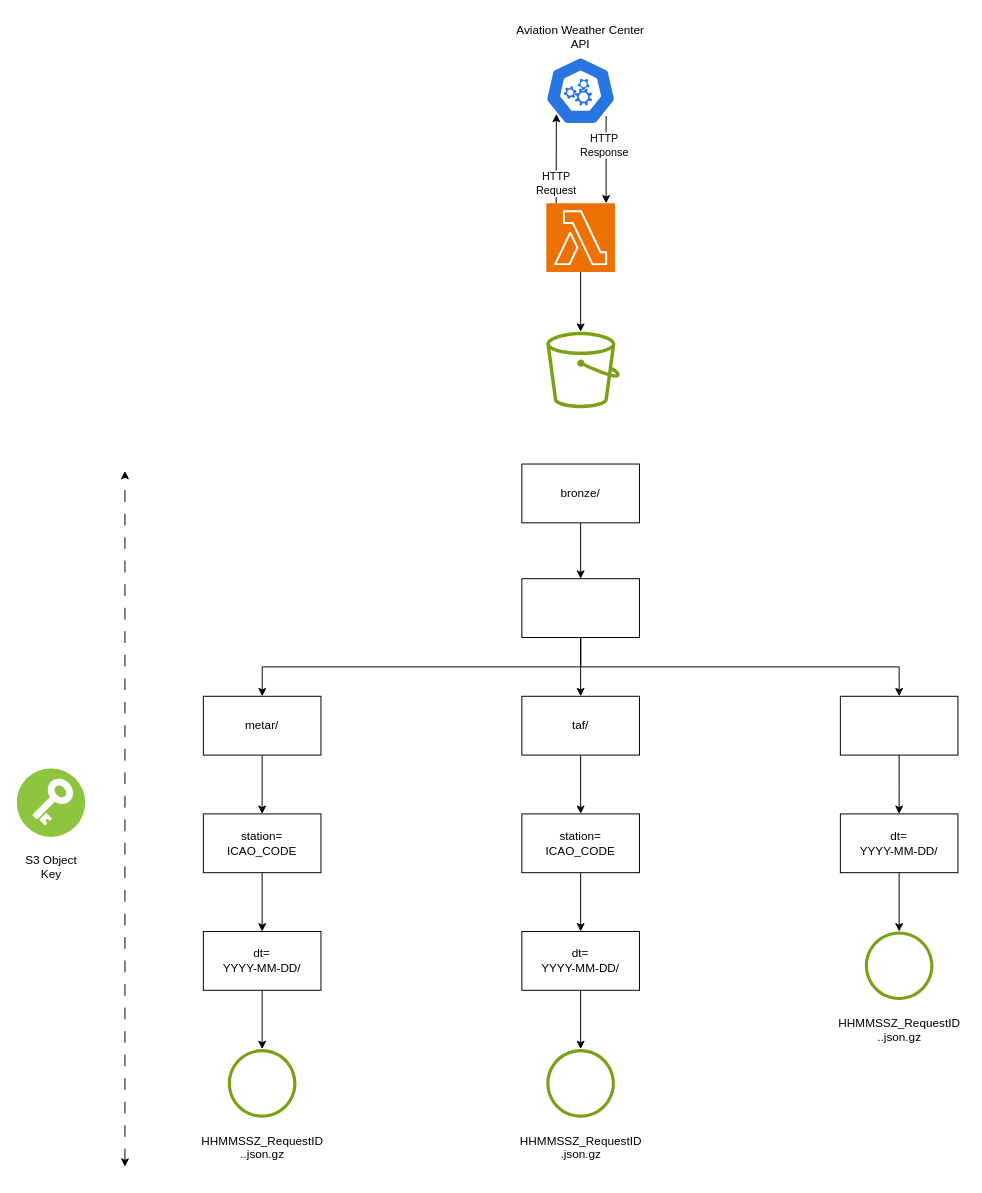
This 982x1193 diagram has some shape labels left out. Each missing label, with the centre of its shape:
"awc/" belongs at [580,607].
"isigmet/" belongs at [898,725].
"s3://aeroq-lake/" belongs at [582,369].
